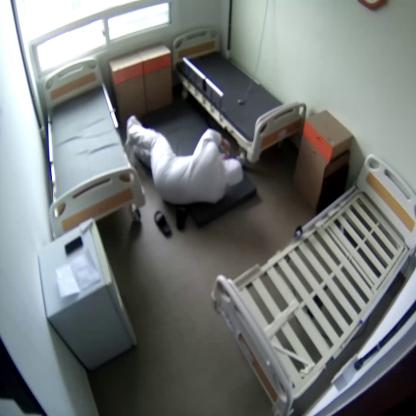Bed: (221, 157, 415, 398), (44, 58, 136, 231)
Person: (126, 118, 244, 202)
